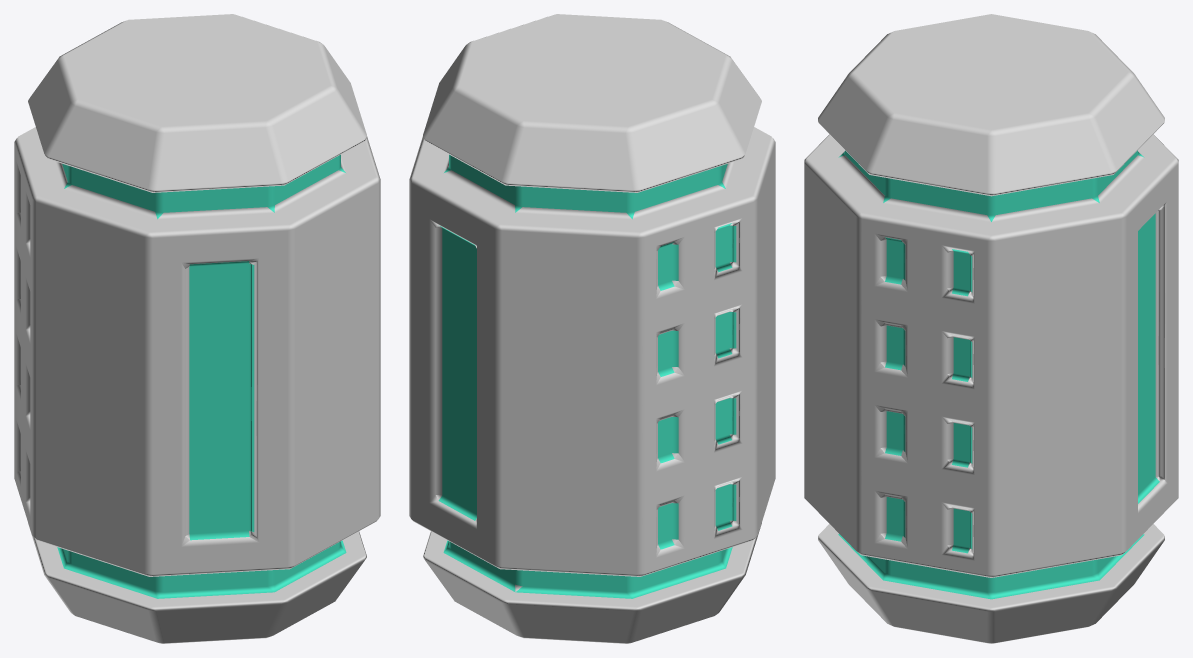
File: Core.fbx
3 renders of one model, left to right at view 1: azimuth 30°, elevation 25°; view 2: azimuth 150°, elevation 25°; view 3: azimuth 270°, elevation 25°, orthographic.
Parts seen in each view (by area): view 1: Cylinder; view 2: Cylinder; view 3: Cylinder.
Boxes of the visible parts, x1,y1,x2,y2 form: Cylinder: (14, 14, 380, 643); Cylinder: (409, 14, 775, 643); Cylinder: (804, 14, 1178, 643).
Bounding box in the file's own units: 198 × 300 × 198.
